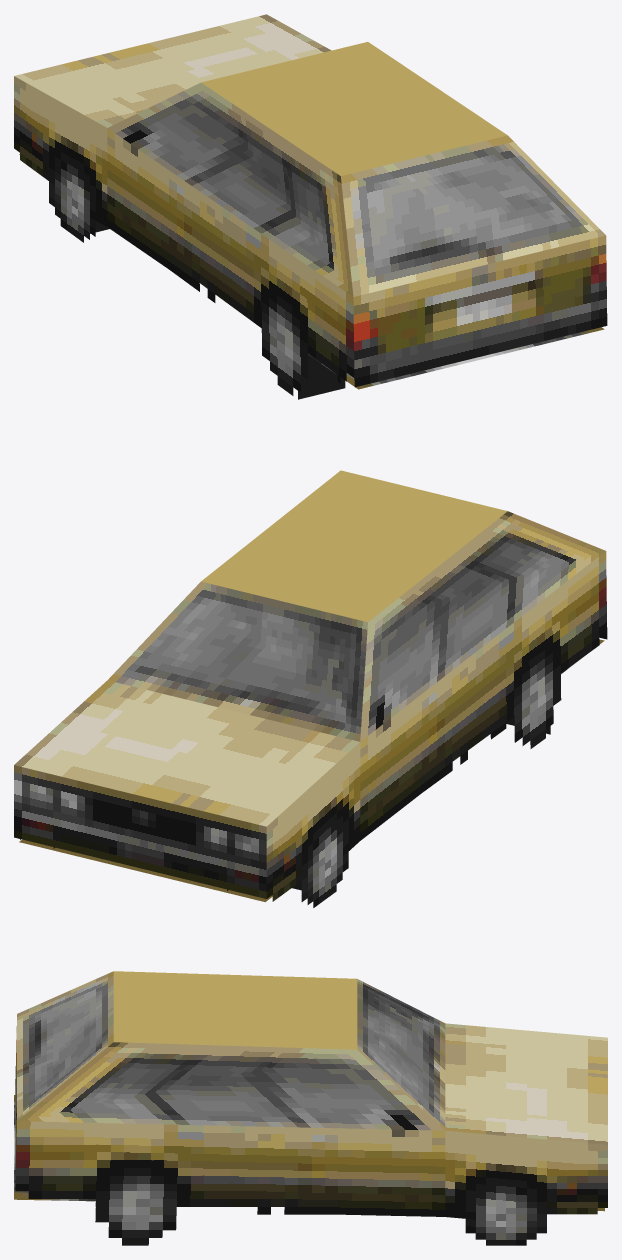
The model's file is car-wagon-plt1.glb.
The picture shows the model from 3 angles, top to bottom: view 1: azimuth 30°, elevation 25°; view 2: azimuth 150°, elevation 25°; view 3: azimuth 270°, elevation 25°; orthographic projection. The views are drawn at different scales.
Parts seen in each view (by area): view 1: car-wagon-plt1; view 2: car-wagon-plt1; view 3: car-wagon-plt1.
Part boxes in pixels (bbox=[...]): car-wagon-plt1: bbox=[14, 14, 607, 399]; car-wagon-plt1: bbox=[14, 470, 607, 907]; car-wagon-plt1: bbox=[14, 971, 607, 1245].
Bounding box in the file's own units: 1.89 × 1.52 × 4.42.
Materials: 13 (13 with a texture image).
